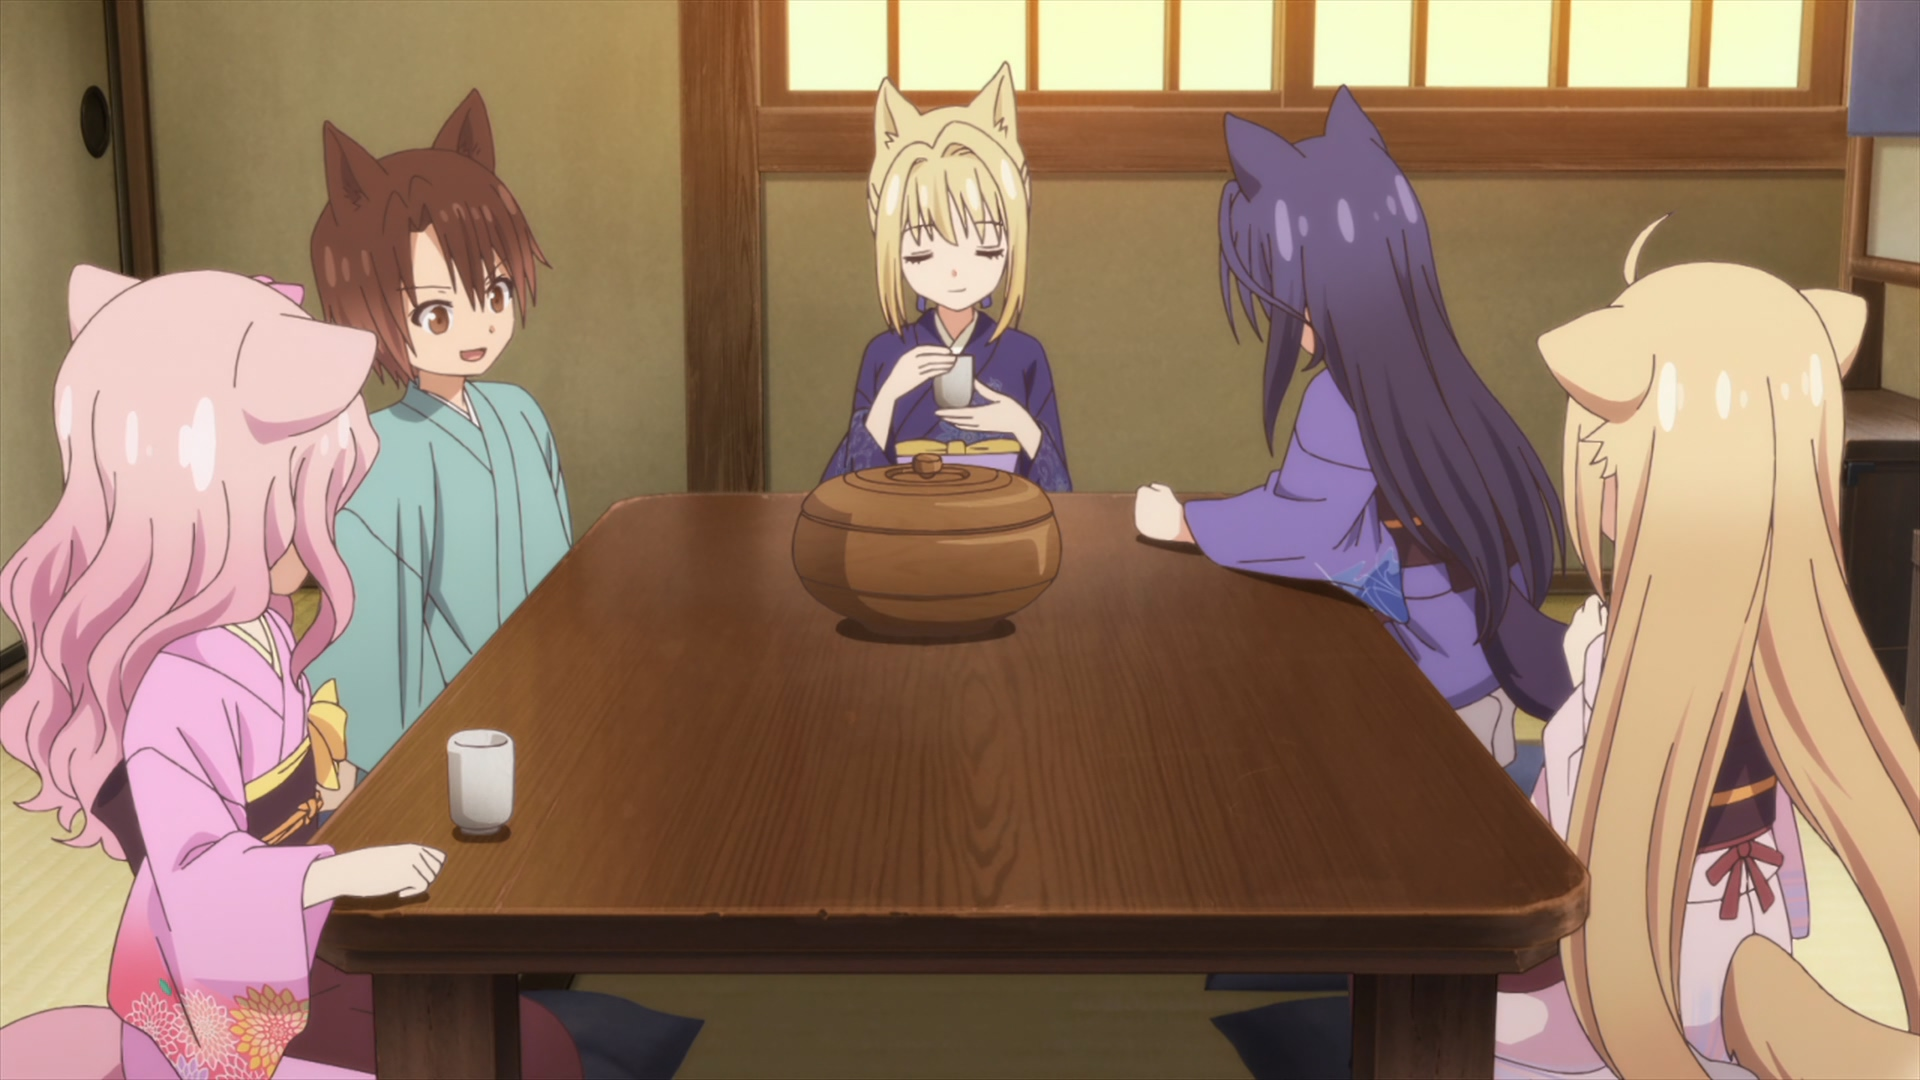枣: (306, 91, 568, 783)
柚: (1497, 216, 1920, 1080)
桐: (816, 61, 1068, 487)
皋: (1133, 80, 1571, 761)
莲: (1, 266, 444, 1080)
